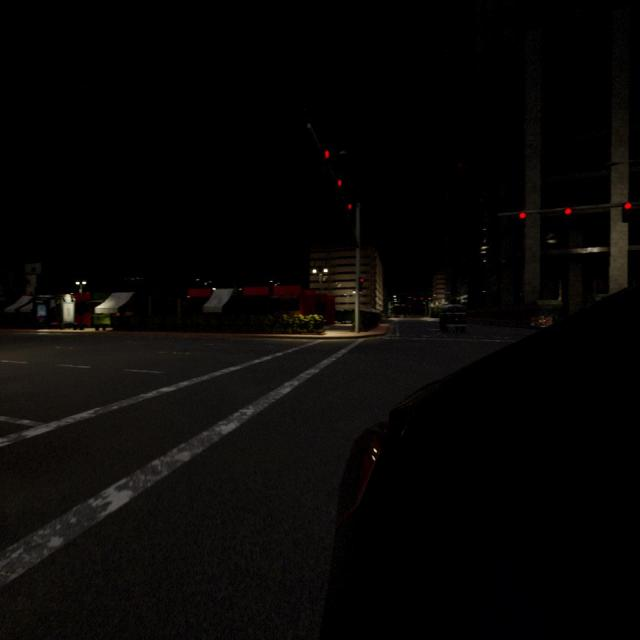Vehicle: (322, 284, 640, 639), (438, 306, 469, 336)
traffic_light: (622, 202, 632, 223), (518, 211, 526, 228), (564, 208, 572, 224), (358, 277, 364, 292), (325, 150, 329, 159), (337, 180, 342, 186), (348, 203, 352, 210)
